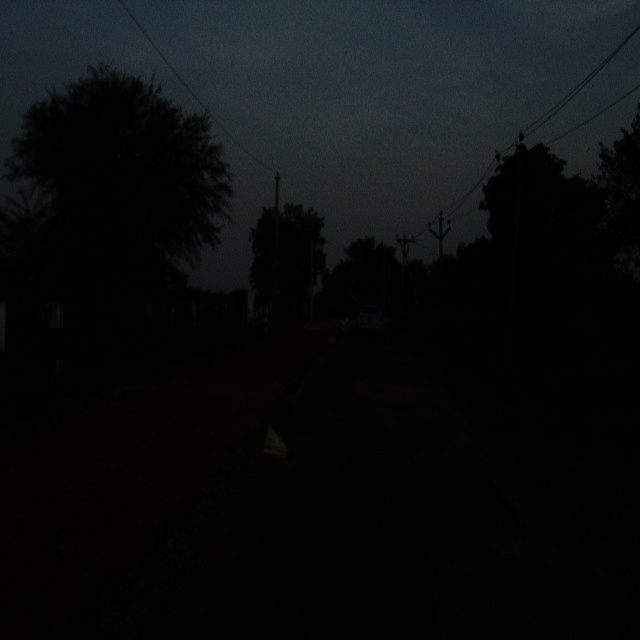Pothole: (434, 522, 638, 640), (408, 418, 480, 473), (260, 426, 290, 460)
